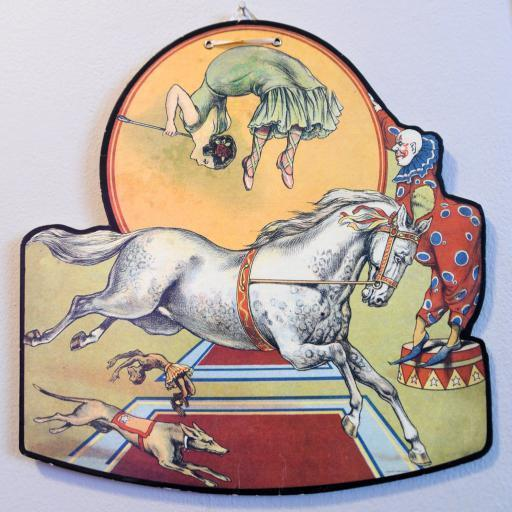horse: (20, 180, 436, 470)
